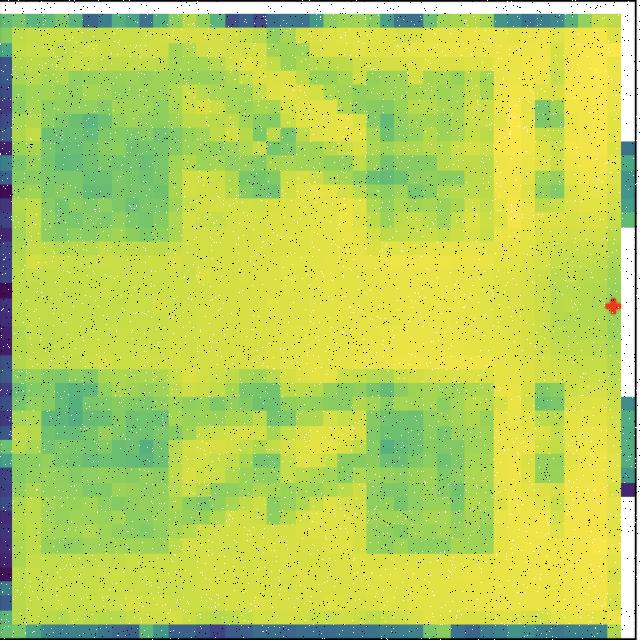Concrete: (357, 372, 495, 556)
Glass: (36, 366, 169, 555)
Metal: (364, 72, 496, 246)
Wood: (39, 69, 182, 242)
